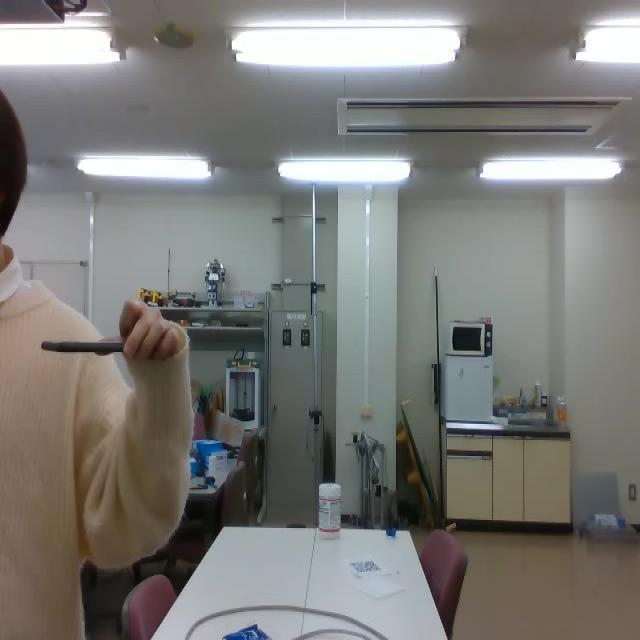Phone: (39, 337, 129, 355)
